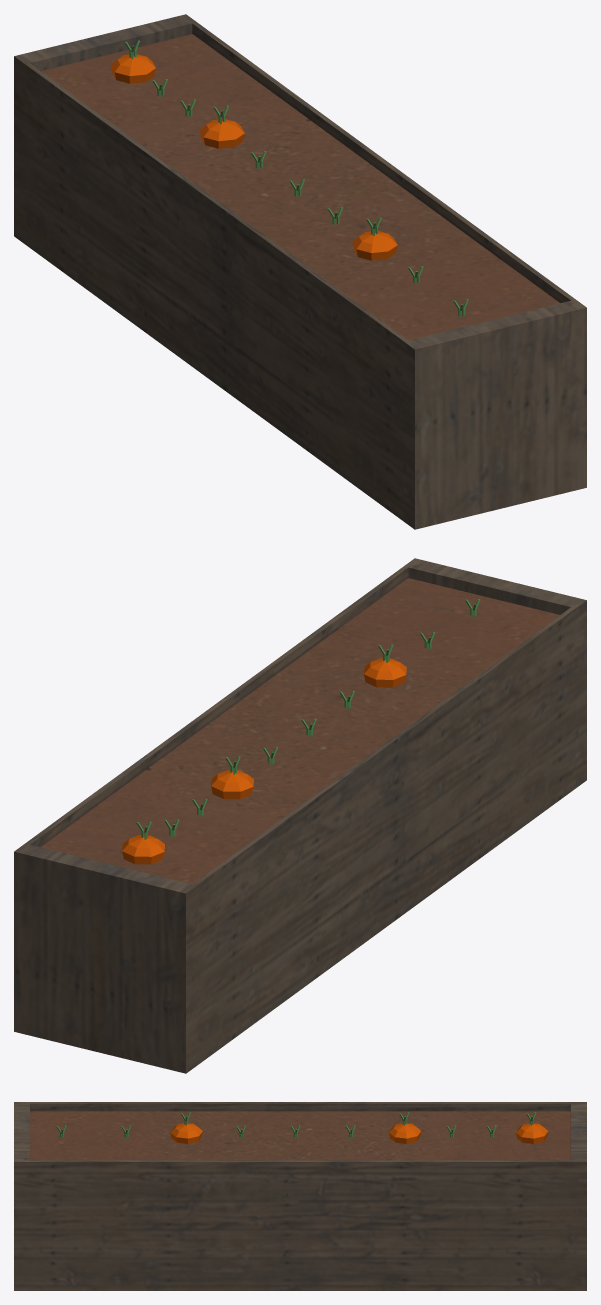
Rendered from Garden.fbx.
The picture shows the model from 3 angles, top to bottom: view 1: azimuth 30°, elevation 25°; view 2: azimuth 150°, elevation 25°; view 3: azimuth 270°, elevation 25°; orthographic projection. The views are drawn at different scales.
Visible parts, largest first — view 1: Cube, Cone.002, Cone.003, Cone; view 2: Cube, Cone, Cone.002, Cone.003; view 3: Cube, Cone.003, Cone, Cone.002.
Part boxes in pixels (left/top/right/bottom): Cube: left=14, top=14, right=586, bottom=529; Cone.002: left=199, top=105, right=244, bottom=148; Cone.003: left=352, top=217, right=397, bottom=260; Cone: left=110, top=40, right=155, bottom=83; Cube: left=14, top=558, right=586, bottom=1073; Cone: left=122, top=821, right=164, bottom=864; Cone.002: left=211, top=756, right=253, bottom=799; Cone.003: left=364, top=644, right=406, bottom=687; Cube: left=14, top=1102, right=586, bottom=1290; Cone.003: left=170, top=1112, right=202, bottom=1143; Cone: left=515, top=1112, right=548, bottom=1143; Cone.002: left=388, top=1112, right=421, bottom=1143.
Bounding box in the file's own units: 200 × 224 × 807.
14 materials, 1 textured.
